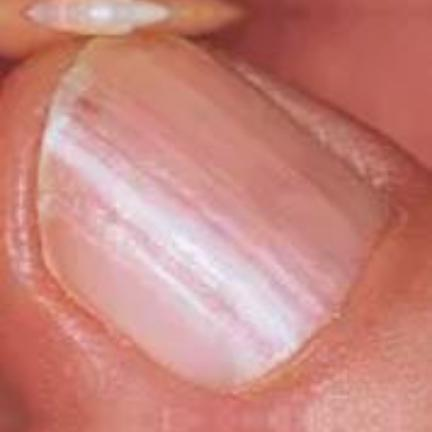Nail: (36, 33, 396, 394)
